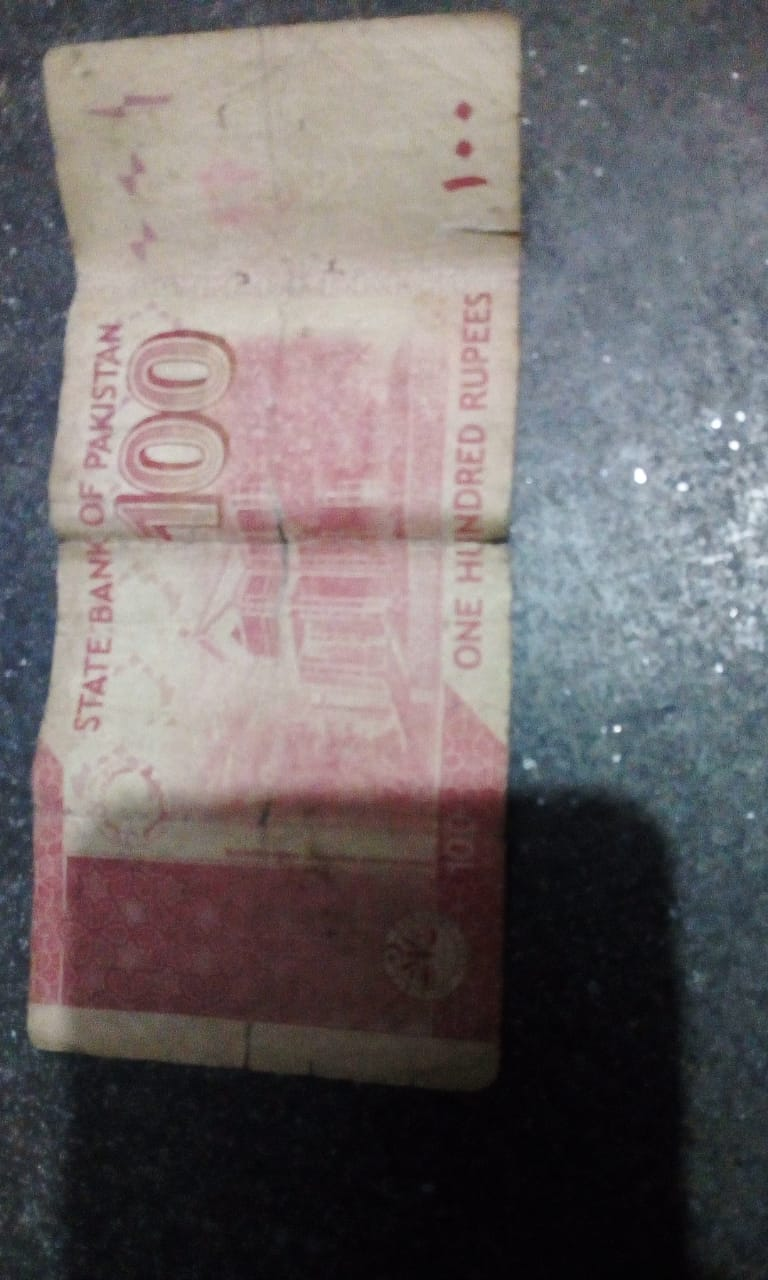100 rupee: (11, 19, 517, 1065)
